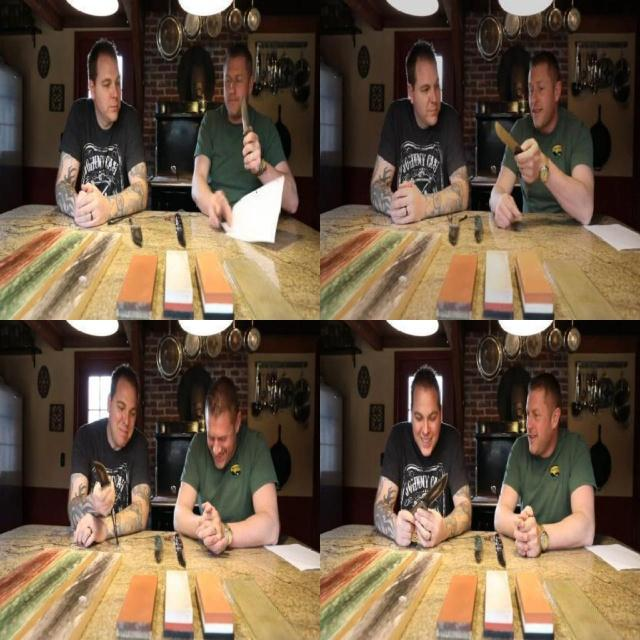knife: (404, 464, 450, 527), (491, 115, 536, 171), (238, 87, 261, 158), (89, 449, 116, 503)
